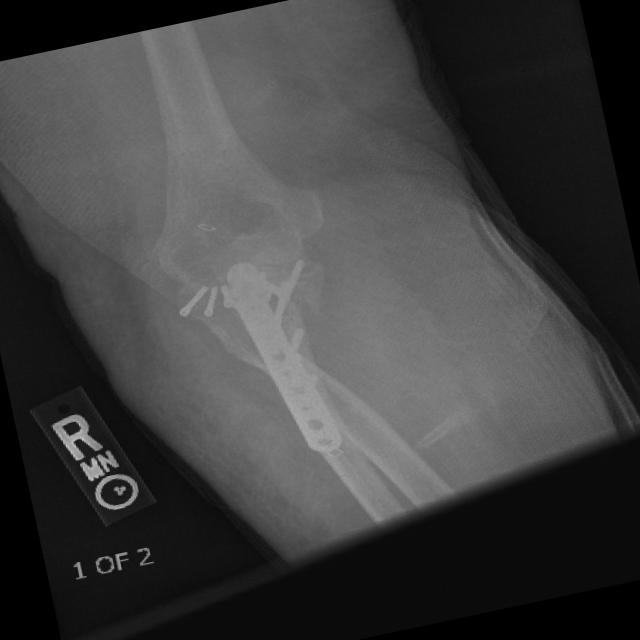elbow positive: (249, 159, 363, 267)
